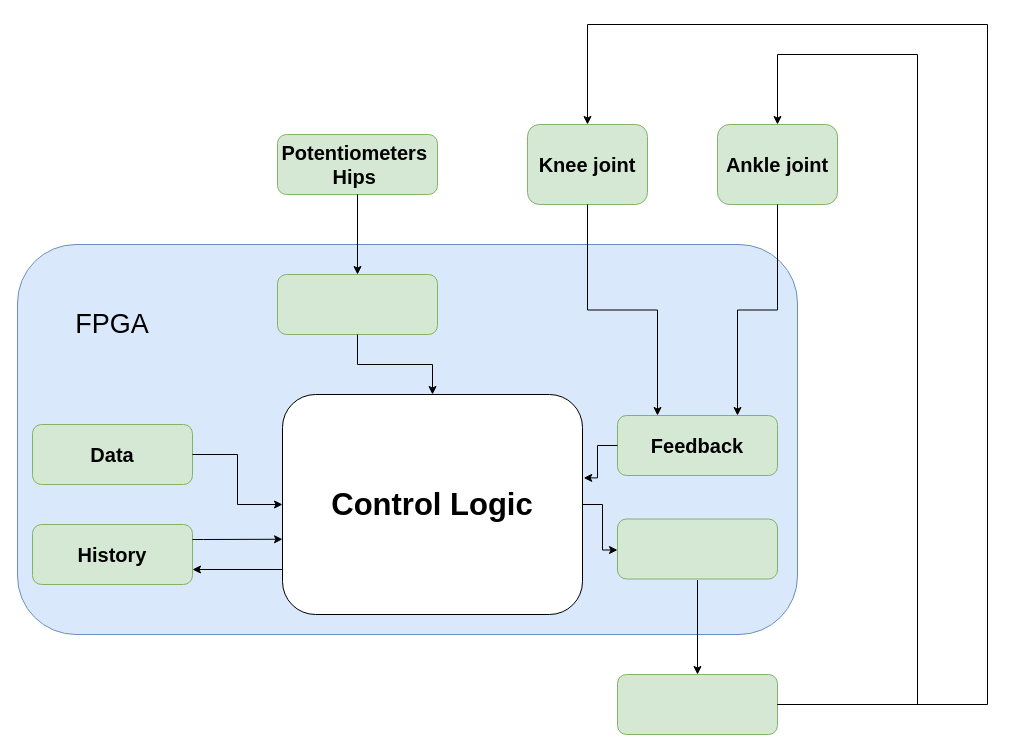
Some shapes in this 1013 by 752 pixel diagram are drawn without their labels. The centre of each missing label's shape, as x and y in pixels:
Inputs: [357,304]
Motors: [697,704]
output: [697,548]
